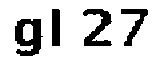2: (79, 8, 113, 49)
7: (119, 5, 150, 48)
g: (9, 15, 44, 60)
l: (47, 5, 67, 51)
